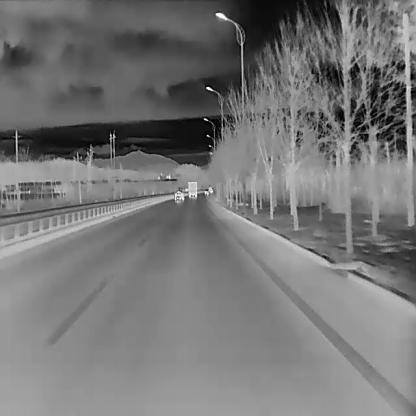car: (174, 189, 184, 200), (204, 189, 209, 194)
truck: (187, 180, 197, 198)
